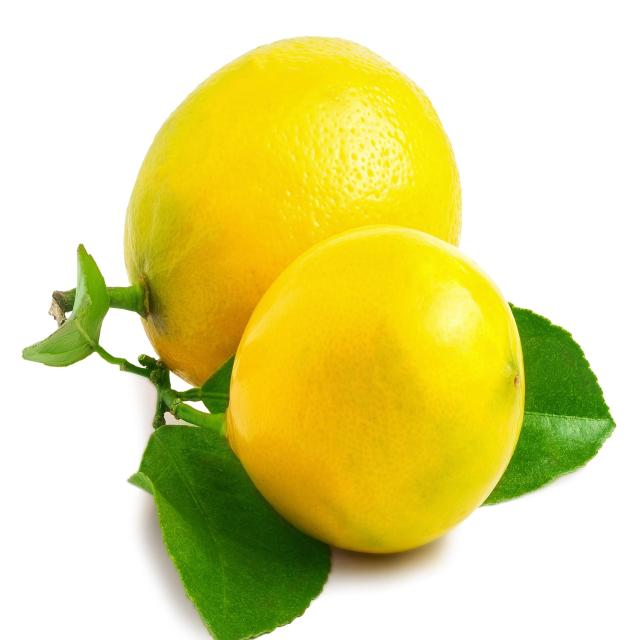lemon: (217, 220, 529, 558)
